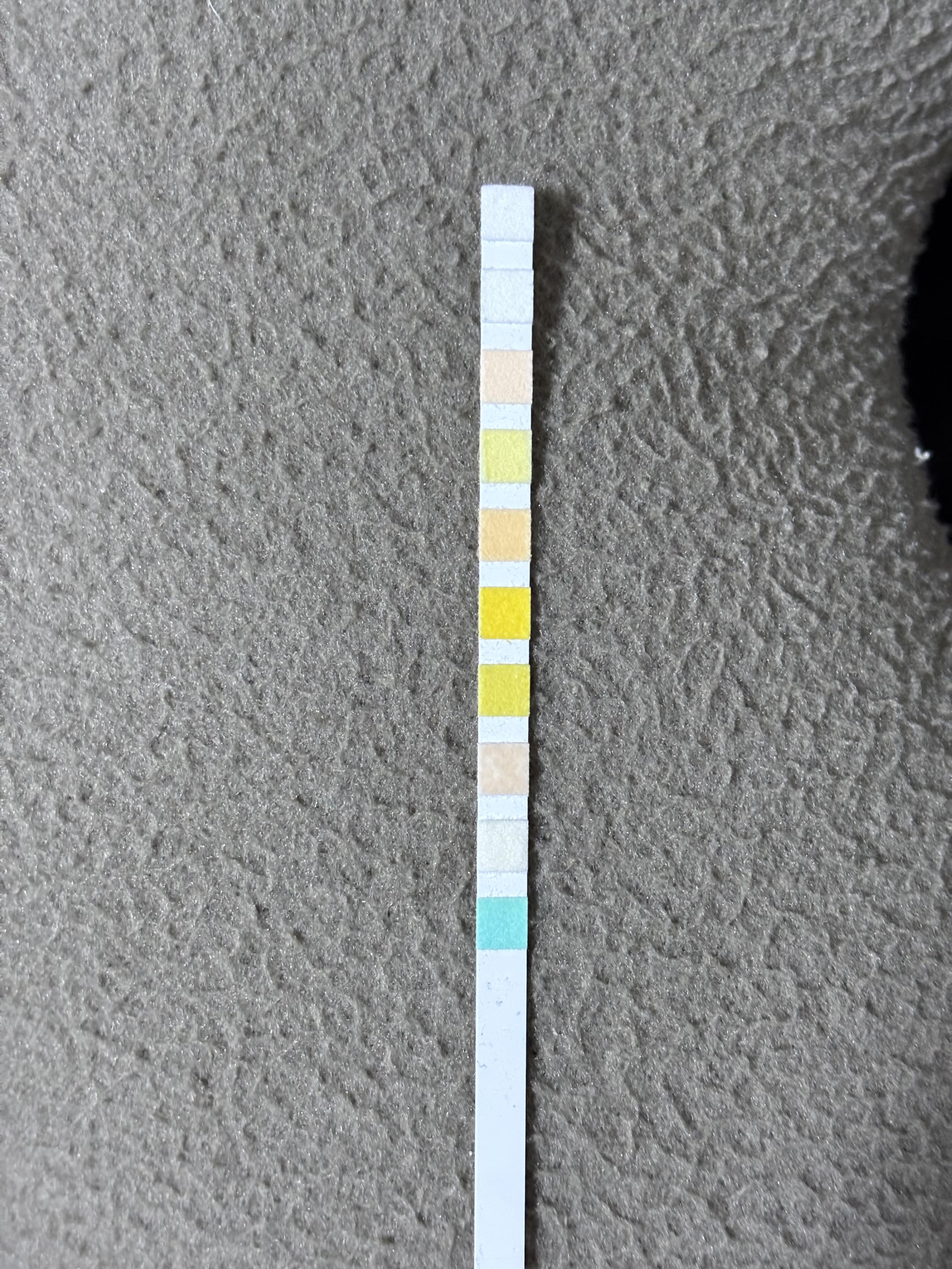Bilirubin: (479, 821, 527, 870)
Blood: (481, 588, 528, 638)
Glucose: (478, 898, 527, 949)
Ketone: (479, 744, 527, 794)
Leukocytes: (483, 186, 533, 239)
Nitrite: (483, 271, 531, 320)
Protein: (480, 429, 530, 484)
SpGravity: (479, 665, 528, 715)
Urobilinogen: (483, 351, 532, 402)
pH: (481, 510, 530, 561)
strip: (478, 184, 534, 1260)
